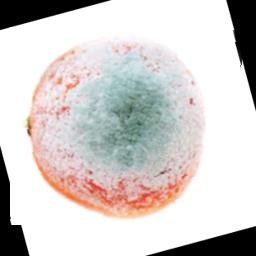Orange Rotten: (11, 28, 244, 226)
